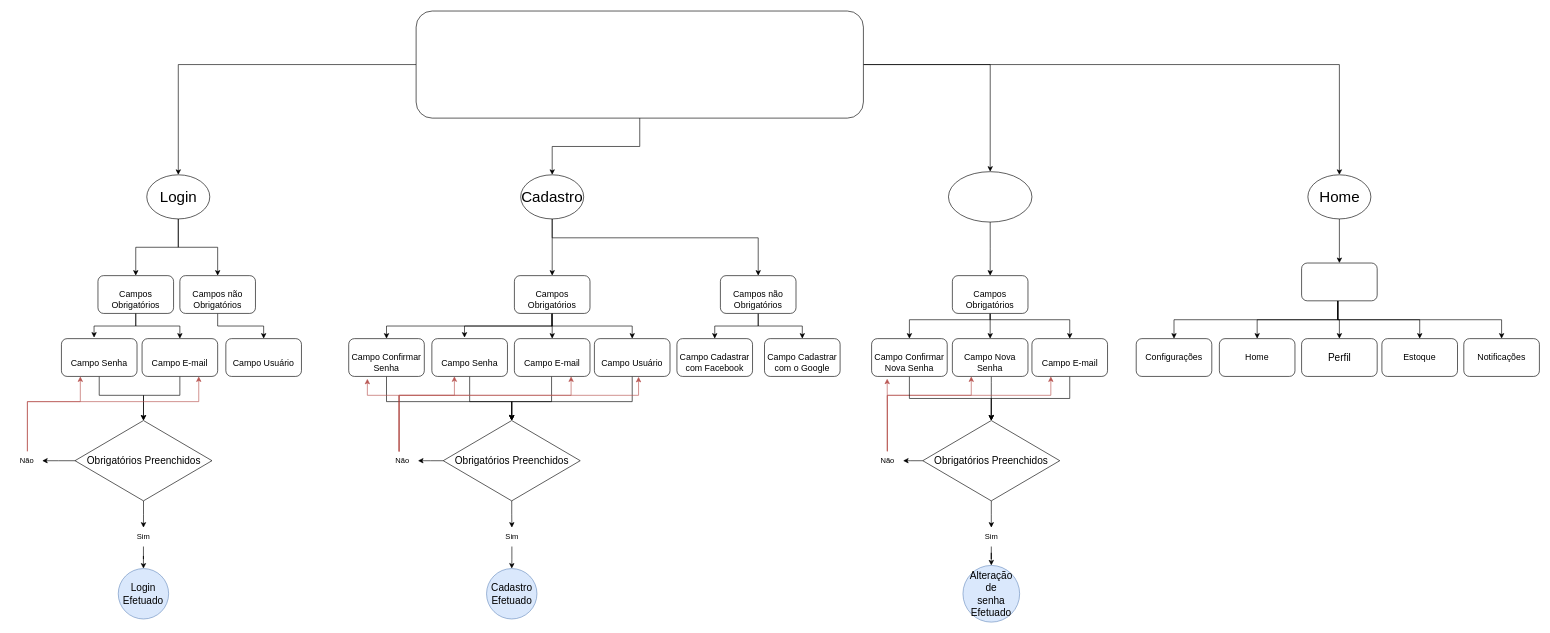
Some shapes in this 1550 by 633 pixel diagram are drawn without their labels. Each missing label, with the centre of its shape:
"Alteração de senha" goes at pixel 990 196.
"App Estoque" goes at pixel 639 64.
"Botões de Acesso" goes at pixel 1339 281.
